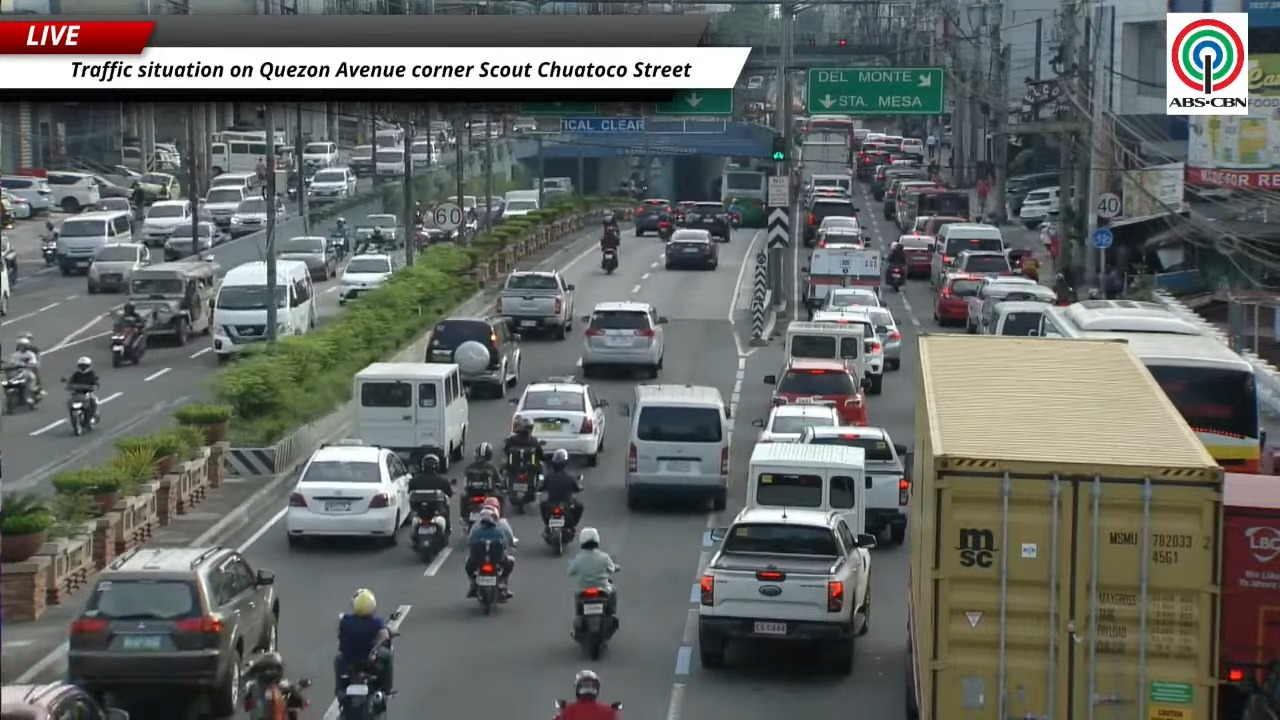bus: (1042, 300, 1262, 472), (720, 165, 767, 227), (210, 130, 265, 175), (907, 187, 971, 224), (802, 115, 856, 137)
car: (67, 546, 280, 716), (698, 507, 875, 673), (799, 426, 909, 543), (285, 445, 410, 544), (511, 377, 607, 466), (424, 316, 521, 397), (763, 357, 867, 425), (581, 301, 667, 378), (812, 307, 885, 394), (0, 682, 128, 719), (966, 276, 1042, 332), (753, 402, 843, 442), (86, 243, 149, 293), (339, 253, 394, 304), (275, 236, 337, 281), (803, 196, 858, 246), (886, 180, 935, 231), (1005, 171, 1059, 217), (933, 273, 981, 324), (141, 200, 192, 247), (45, 171, 101, 213), (163, 221, 221, 261), (865, 307, 901, 369), (202, 185, 253, 227), (664, 229, 717, 269), (870, 165, 926, 201), (0, 175, 52, 213), (679, 203, 730, 241), (881, 177, 923, 220), (1018, 186, 1059, 228), (307, 167, 356, 202), (230, 197, 269, 237), (897, 234, 934, 276), (952, 250, 1012, 275), (633, 199, 672, 236), (821, 287, 880, 310), (135, 172, 180, 201), (86, 172, 131, 198), (855, 145, 888, 180), (357, 214, 398, 242), (816, 226, 865, 248), (919, 216, 968, 238), (409, 137, 440, 169), (302, 141, 337, 169), (817, 215, 860, 237), (0, 191, 31, 219), (804, 186, 850, 203), (348, 145, 373, 176), (88, 196, 133, 213), (673, 201, 697, 222), (899, 137, 924, 157), (512, 117, 537, 133)
motorcycle: (337, 661, 394, 719), (573, 587, 618, 659), (409, 490, 448, 562), (245, 678, 311, 719), (338, 667, 387, 719), (461, 487, 502, 533), (3, 365, 40, 414), (542, 503, 575, 555), (507, 465, 540, 513), (475, 562, 505, 614), (67, 385, 96, 436), (111, 323, 144, 367), (326, 234, 347, 261), (888, 264, 905, 291), (41, 237, 57, 265), (601, 247, 617, 274), (657, 219, 674, 241), (553, 699, 567, 719), (729, 212, 741, 228)
truck: (906, 334, 1222, 719), (1218, 473, 1279, 719), (496, 271, 574, 339), (801, 245, 881, 309), (799, 132, 850, 182)
